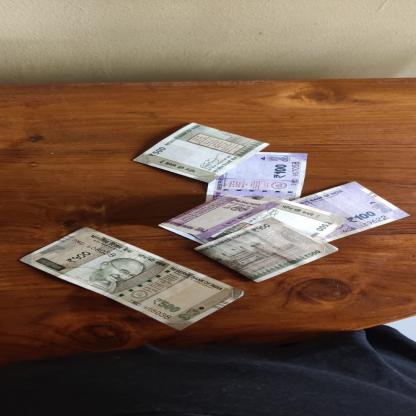New100Back: (155, 193, 282, 245)
New100Front: (291, 180, 411, 242), (206, 152, 308, 202)
New500Back: (192, 216, 340, 284), (130, 122, 272, 184), (193, 193, 350, 244)
New500Front: (19, 226, 246, 331)
